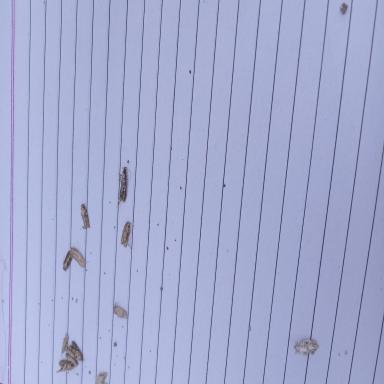pbw: (116, 166, 131, 208), (293, 339, 320, 356), (69, 246, 89, 268), (120, 221, 134, 250), (70, 341, 87, 362), (113, 301, 128, 319), (80, 203, 90, 229), (62, 249, 73, 272), (56, 358, 74, 372), (60, 333, 69, 356), (65, 352, 78, 367), (95, 370, 108, 384), (65, 346, 77, 359)
